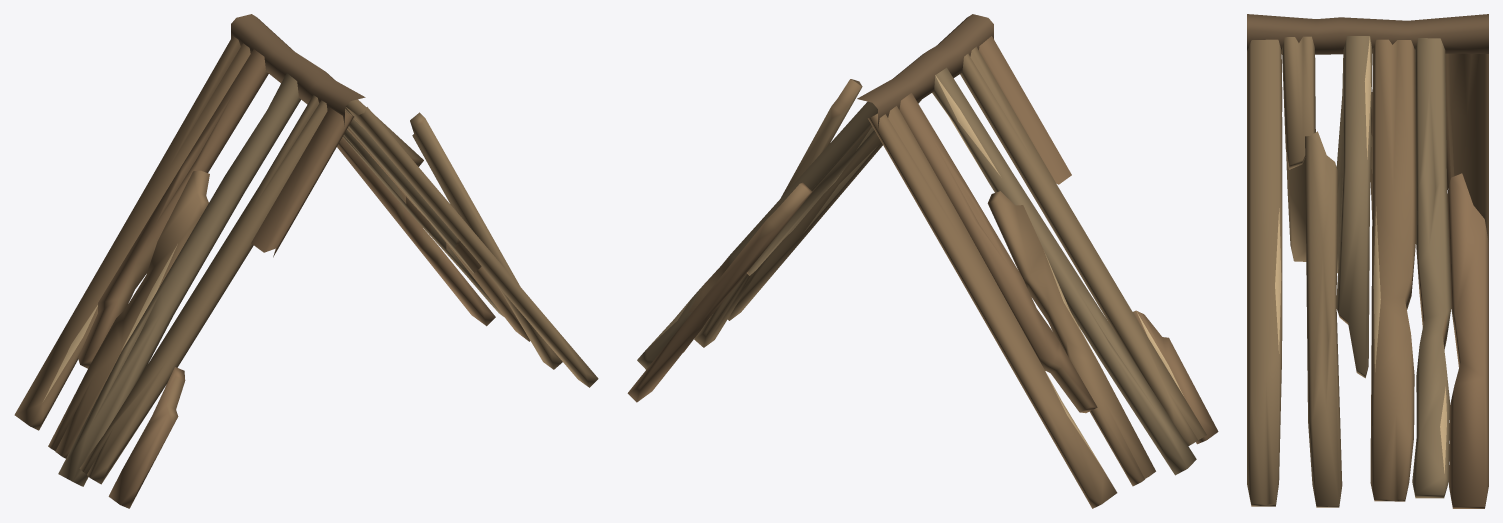
File: rpgpp_av_roof_02_6x5x3_a.gltf
3 views of the same model, side by side, from view 1: azimuth 30°, elevation 25°; view 2: azimuth 150°, elevation 25°; view 3: azimuth 270°, elevation 25° (orthographic). The views are drawn at different scales.
Parts seen in each view (by area): view 1: rpgpp_av_roof_02_6x5x3_a; view 2: rpgpp_av_roof_02_6x5x3_a; view 3: rpgpp_av_roof_02_6x5x3_a.
Part boxes in pixels (box(x1,y1,x2,y2)): rpgpp_av_roof_02_6x5x3_a: box(14, 14, 598, 508); rpgpp_av_roof_02_6x5x3_a: box(627, 14, 1218, 508); rpgpp_av_roof_02_6x5x3_a: box(1247, 14, 1488, 508).
Bounding box in the file's own units: 0.0754 × 0.0518 × 0.03.
Materials: 1 (1 with a texture image).
